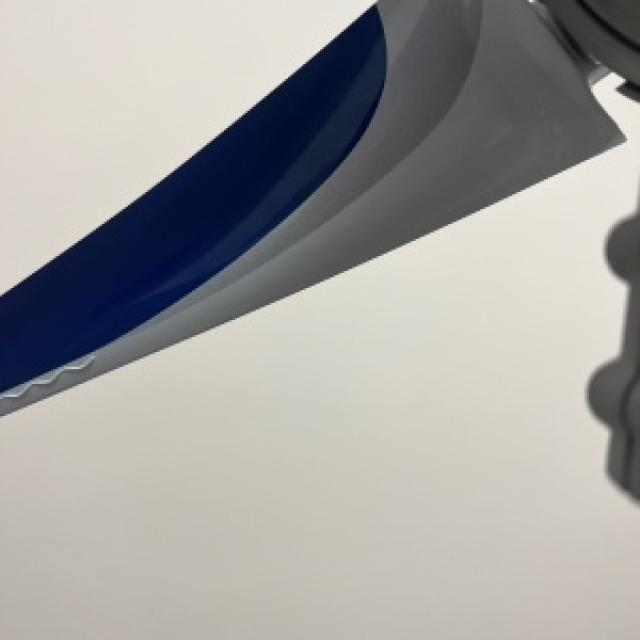healthy: (0, 75, 638, 638), (587, 196, 638, 497)
